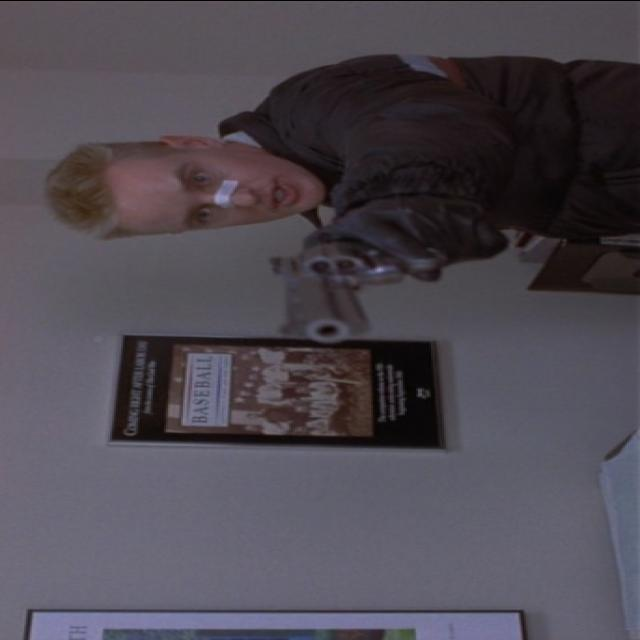weapons: (254, 213, 472, 359)
